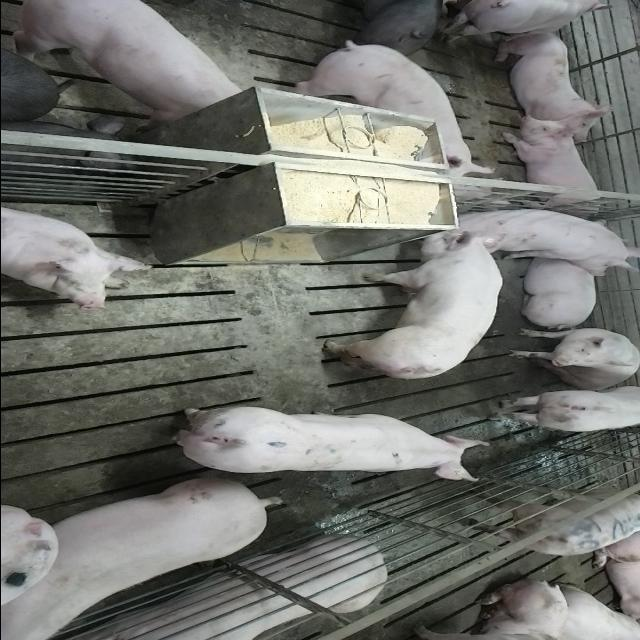Sitting: (448, 204, 640, 274), (506, 326, 640, 389)
Standing: (8, 2, 248, 124), (284, 36, 480, 174), (161, 404, 492, 482), (462, 482, 638, 558), (317, 0, 447, 56), (488, 386, 638, 434), (439, 0, 617, 36)
Sternal_lying: (62, 538, 391, 640), (0, 201, 154, 309), (493, 29, 621, 139), (500, 118, 609, 214), (513, 254, 602, 326)
